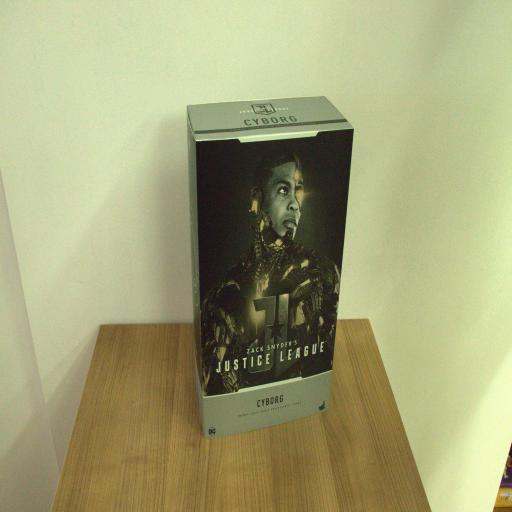Cyborg: (186, 95, 355, 437)
